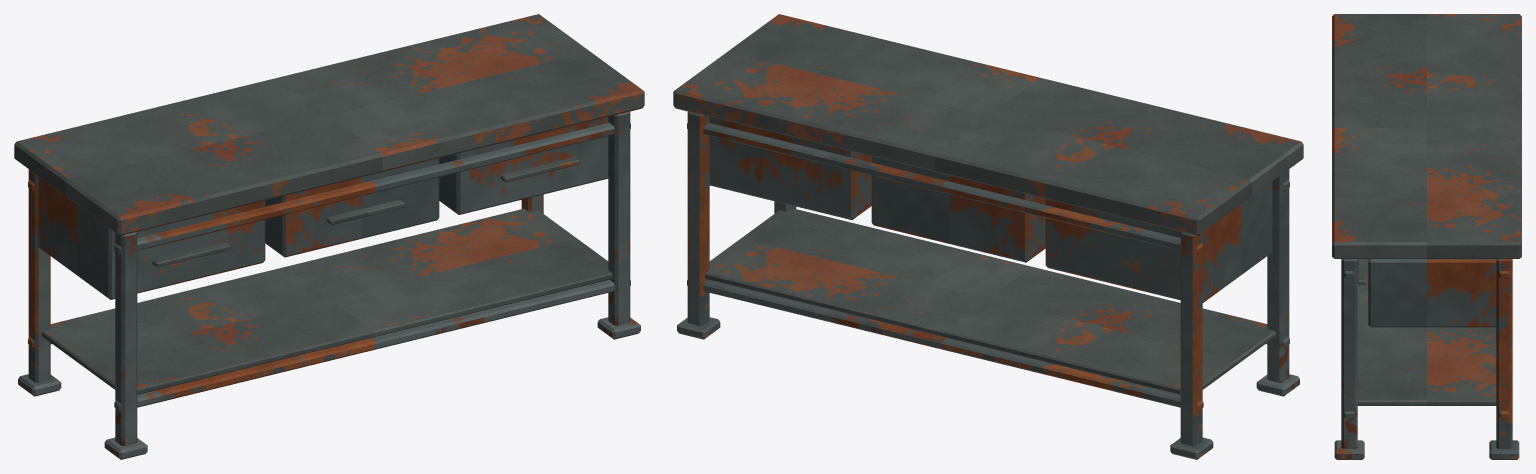
Rendered from industrial_workbench_v03.glb.
3 renders of one model, left to right at view 1: azimuth 30°, elevation 25°; view 2: azimuth 150°, elevation 25°; view 3: azimuth 270°, elevation 25°, orthographic. The views are drawn at different scales.
Visible parts, largest first — view 1: roof_combined, steel_combined; view 2: roof_combined, steel_combined; view 3: roof_combined, steel_combined.
Boxes of the visible parts, x1,y1,x2,y2 form: roof_combined: (14, 14, 644, 394); steel_combined: (18, 111, 640, 459); roof_combined: (673, 14, 1303, 394); steel_combined: (677, 111, 1299, 459); roof_combined: (1332, 14, 1521, 405); steel_combined: (1334, 259, 1519, 459).
Bounding box in the file's own units: 2.18 × 0.9675 × 0.76.
2 materials, 2 textured.
